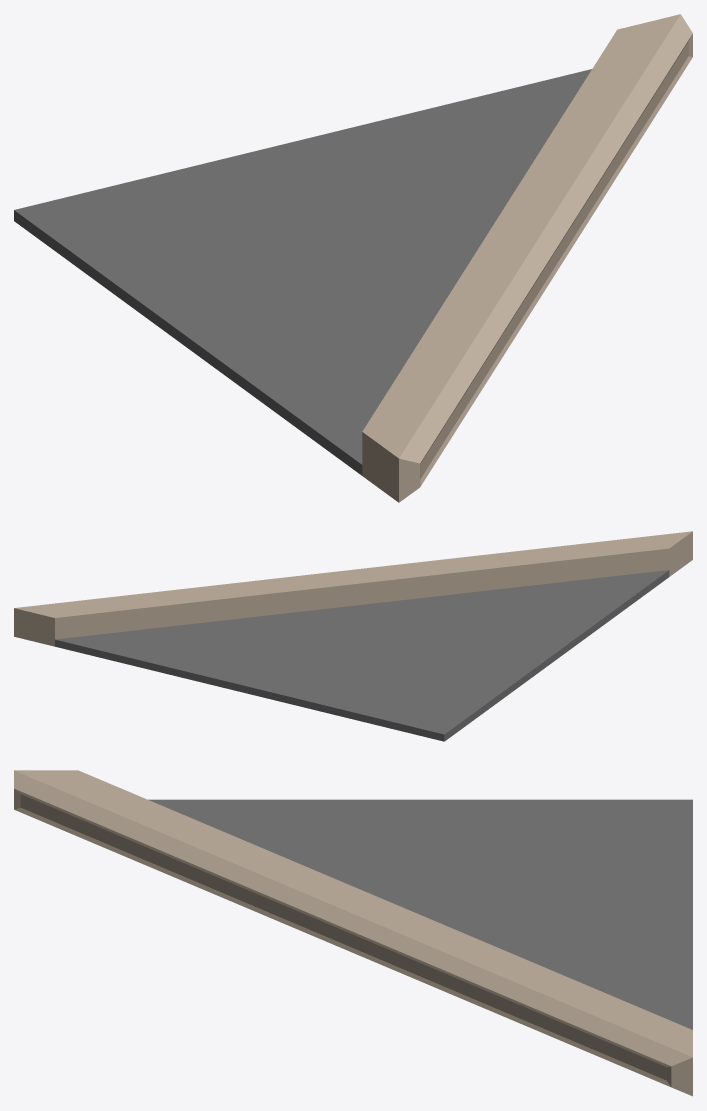
Rendered from roof_6x6_diagonal.fbx.
3 views of the same model, one above another, from view 1: azimuth 30°, elevation 25°; view 2: azimuth 150°, elevation 25°; view 3: azimuth 270°, elevation 25° (orthographic). The views are drawn at different scales.
Parts seen in each view (by area): view 1: Cube; view 2: Cube; view 3: Cube.
Part boxes in pixels (bbox=[...]): Cube: bbox=[14, 14, 692, 502]; Cube: bbox=[14, 531, 692, 741]; Cube: bbox=[14, 770, 692, 1096].
Bounding box in the file's own units: 630 × 40 × 630.
